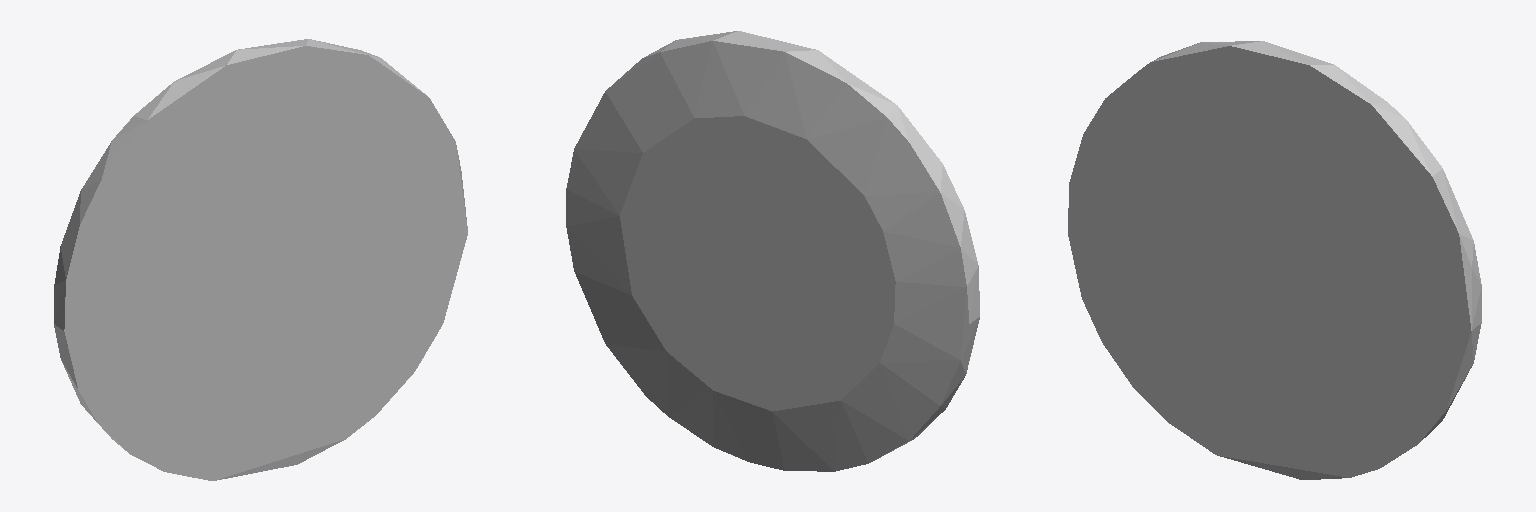
File: pie2_v.obj
3 renders of one model, left to right at view 1: azimuth 30°, elevation 25°; view 2: azimuth 150°, elevation 25°; view 3: azimuth 330°, elevation 25°, orthographic.
Visible parts, largest first — view 1: convex_0; view 2: convex_0; view 3: convex_0.
Boxes of the visible parts, x1,y1,x2,y2 form: convex_0: [54, 39, 467, 480]; convex_0: [566, 31, 979, 471]; convex_0: [1068, 41, 1481, 479].
Bounding box in the file's own units: 0.1205 × 0.1195 × 0.0107.